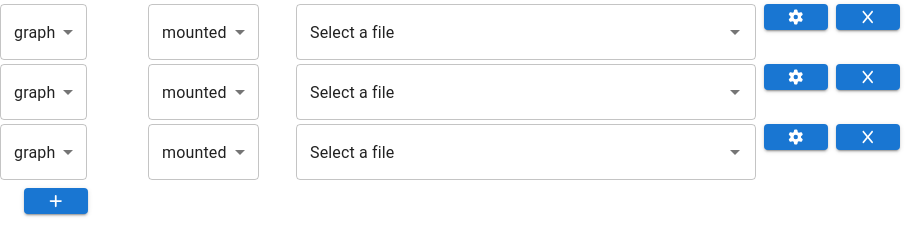
Test: TrackPickerDisplay › should delete a trackitem when the delete button is pressed
Click the button with test id "delete-button-component0".
click(868, 17)  # box [836,4,900,30]
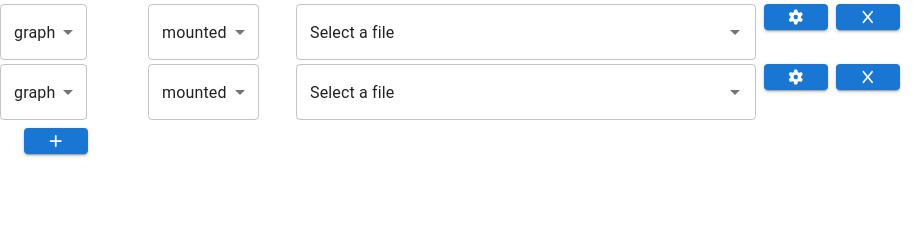
Check: the element with test id "file-type-select-component2" is gone
Check: the element with test id "file-select-component2" is gone
# After deleting index 1 (the last remaining), only one track left
Click the button with test id "delete-button-component1".
click(868, 77)  # box [836,64,900,90]
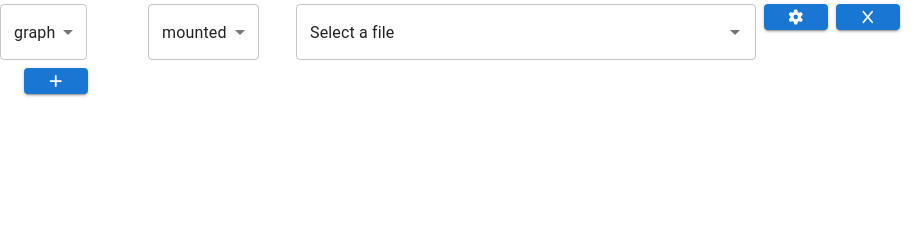
Check: the element with test id "file-type-select-component1" is gone
Check: the element with test id "file-select-component1" is gone
